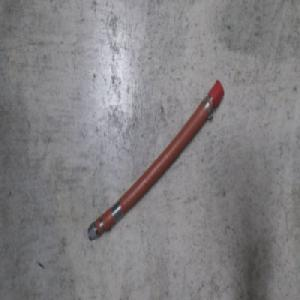Hose: (87, 83, 226, 246)
